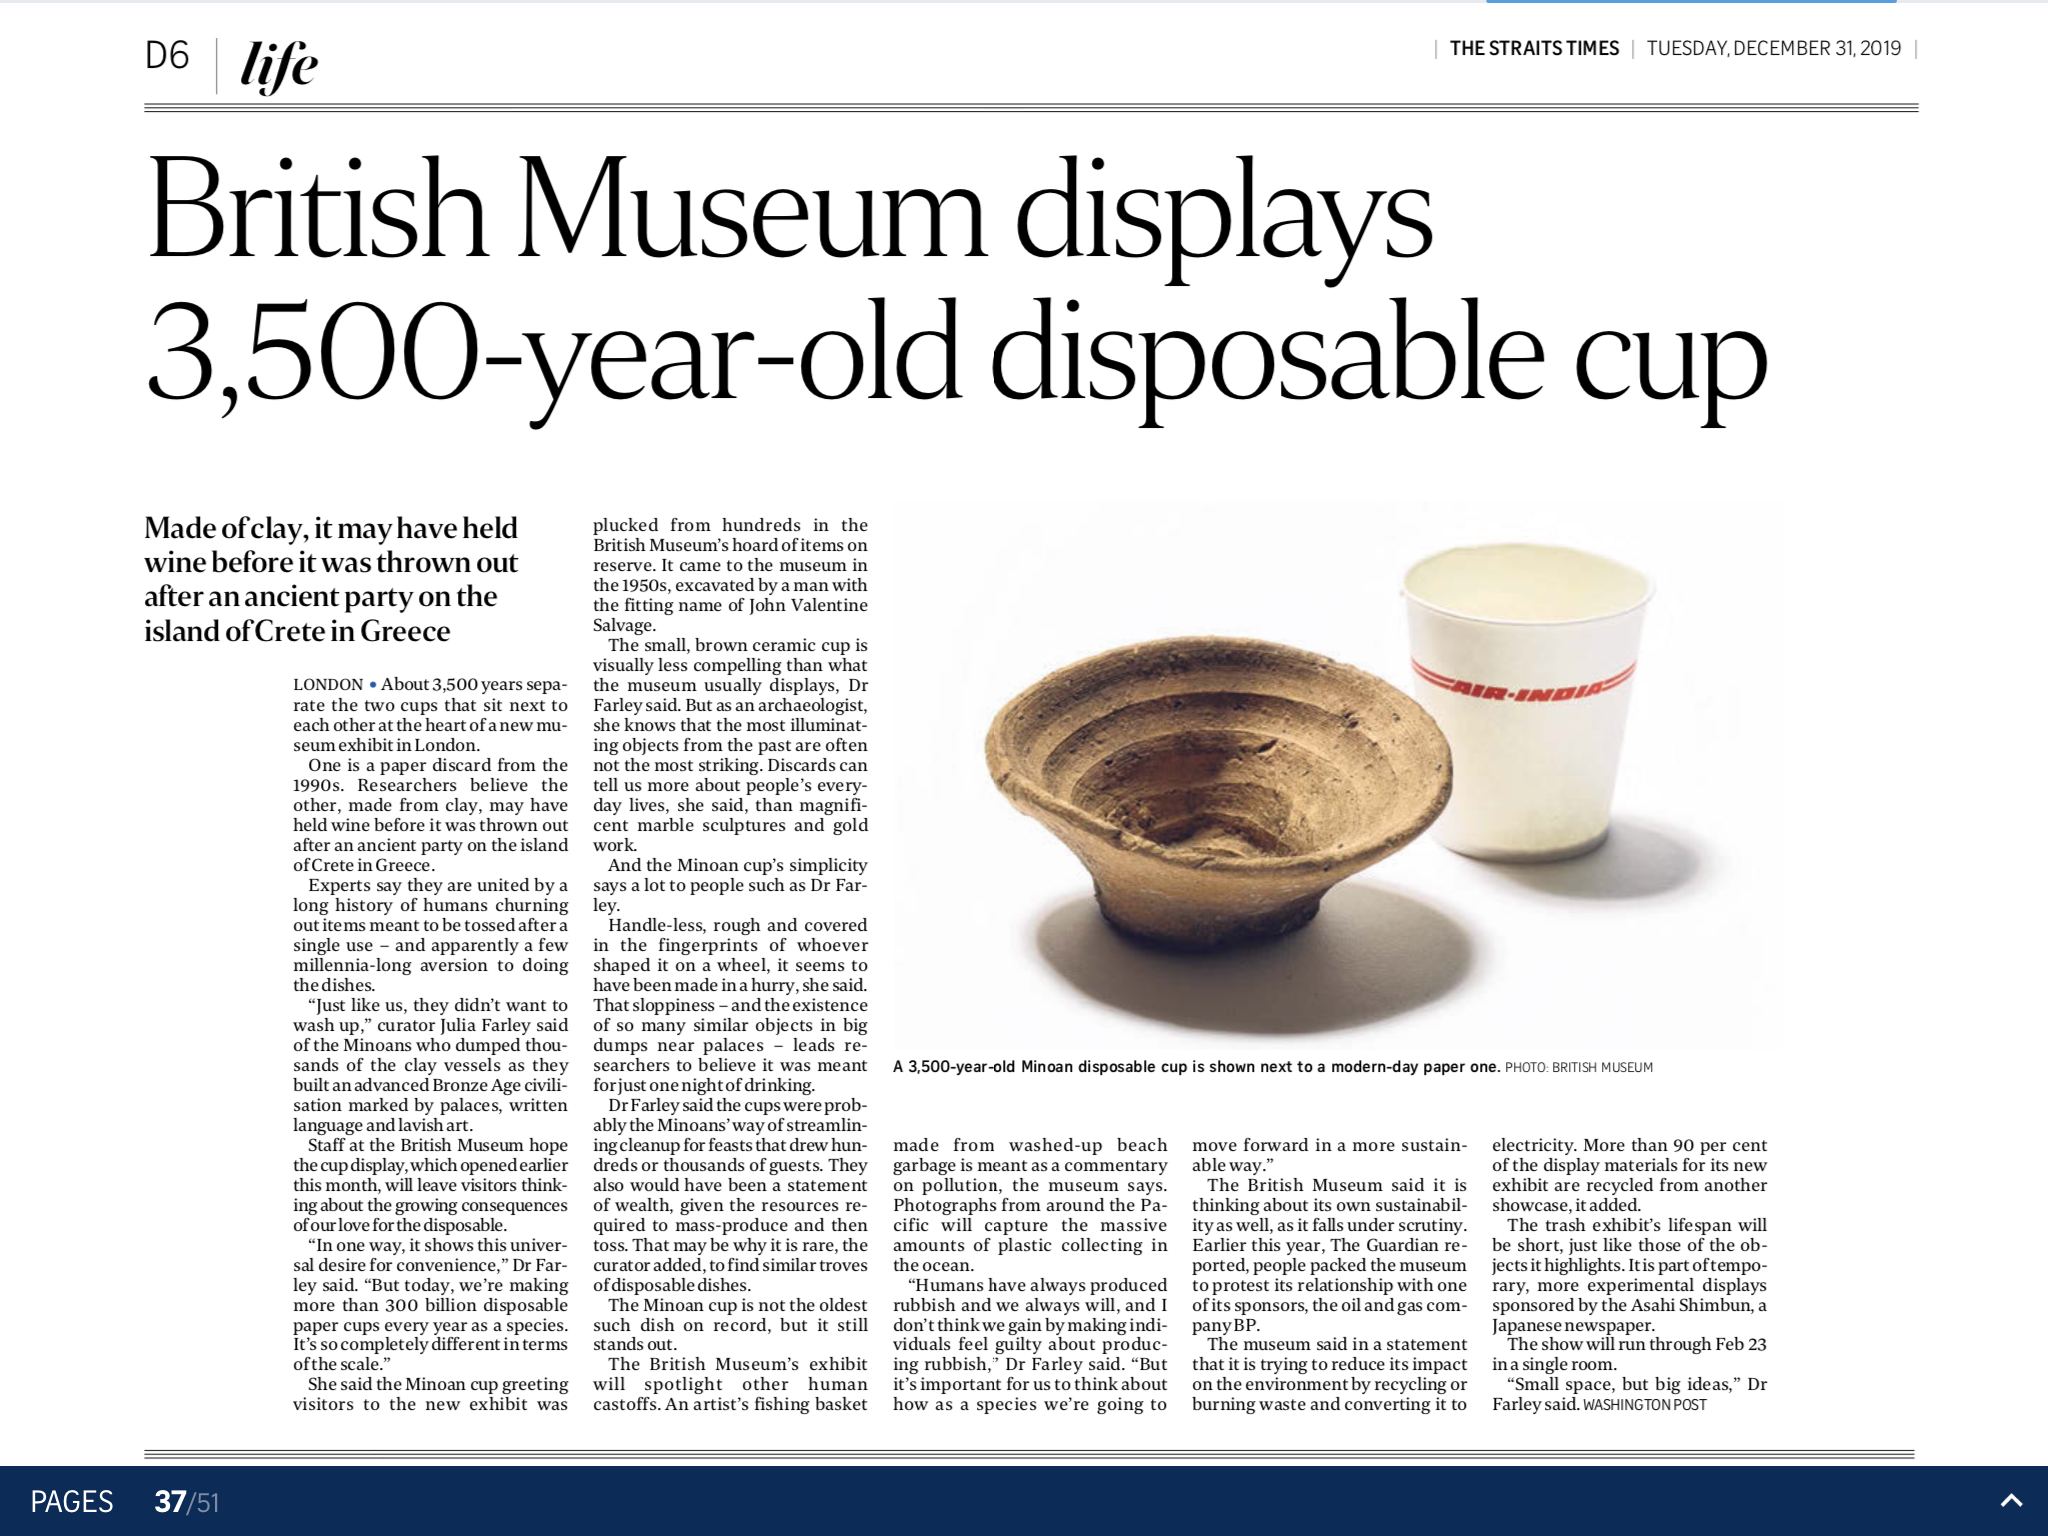Headline: (135, 142, 1780, 442)
Illustration: (885, 1055, 1666, 1084)
Image: (884, 495, 1795, 1054)
Text: (587, 508, 876, 1420), (285, 670, 581, 1421), (885, 1129, 1180, 1423), (1480, 1129, 1779, 1420), (1182, 1128, 1476, 1421), (140, 508, 519, 650)
